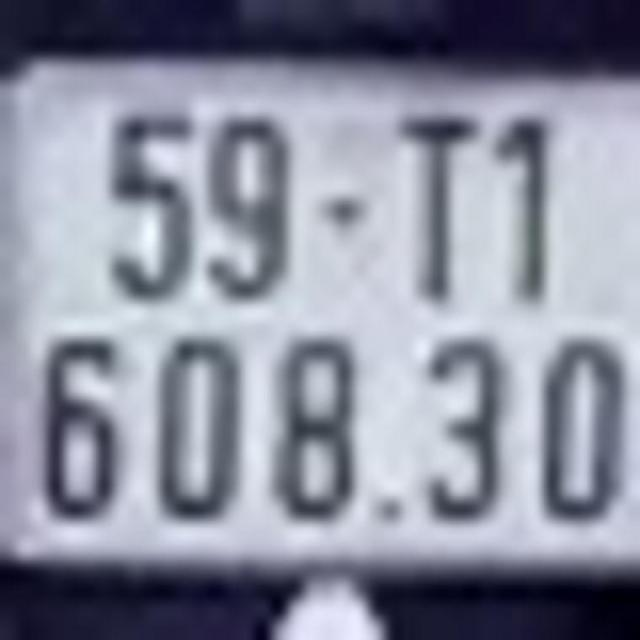0: (154, 332, 245, 519), (546, 320, 626, 522)
1: (497, 108, 556, 306)
3: (423, 328, 497, 530)
5: (108, 100, 190, 318)
6: (41, 323, 122, 522)
8: (278, 328, 356, 521)
9: (200, 110, 294, 316)
T: (397, 106, 482, 304)
